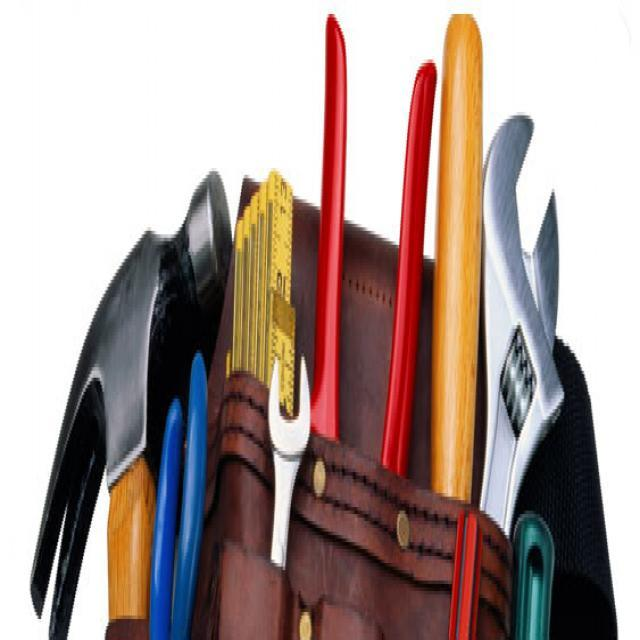hammer: (12, 150, 236, 640)
wrench: (462, 85, 572, 598), (262, 325, 314, 640)
